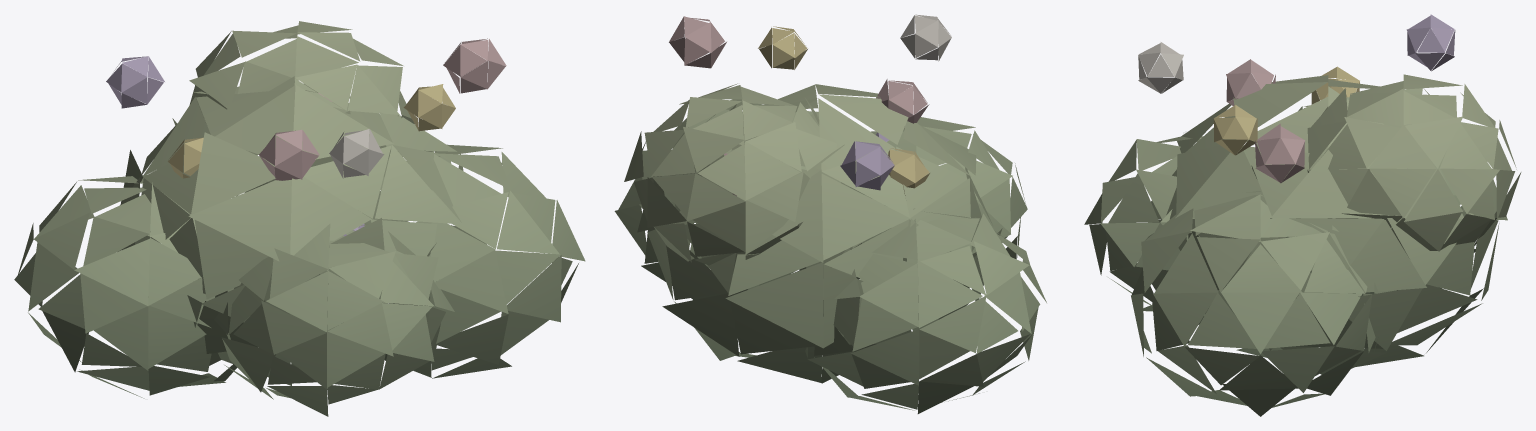
The model's file is bush-b.glb.
3 renders of one model, left to right at view 1: azimuth 30°, elevation 25°; view 2: azimuth 150°, elevation 25°; view 3: azimuth 270°, elevation 25°, orthographic. The views are drawn at different scales.
Visible parts, largest first — view 1: bush-b; view 2: bush-b; view 3: bush-b.
Boxes of the visible parts, x1=… form: bush-b: x1=14, y1=21, x2=585, y2=416; bush-b: x1=614, y1=14, x2=1046, y2=413; bush-b: x1=1084, y1=14, x2=1521, y2=416.
Size of the model in its own units: 1.41 by 0.8766 by 1.18.
